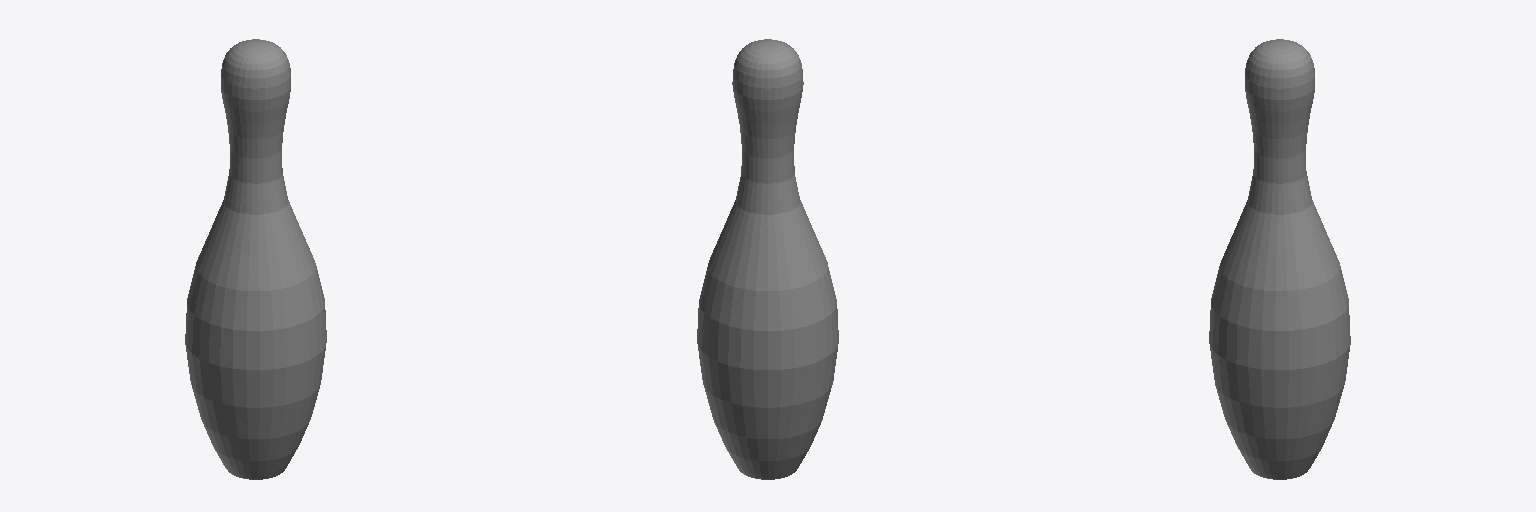
File: bowling.obj
3 views of the same model, side by side, from view 1: azimuth 30°, elevation 25°; view 2: azimuth 150°, elevation 25°; view 3: azimuth 270°, elevation 25° (orthographic).
Visible parts, largest first — view 1: bowling; view 2: bowling; view 3: bowling.
Boxes of the visible parts, x1=… form: bowling: x1=185, y1=39, x2=326, y2=479; bowling: x1=697, y1=39, x2=838, y2=479; bowling: x1=1209, y1=39, x2=1350, y2=479.
Bounding box in the file's own units: 4.77 × 15.74 × 4.77.